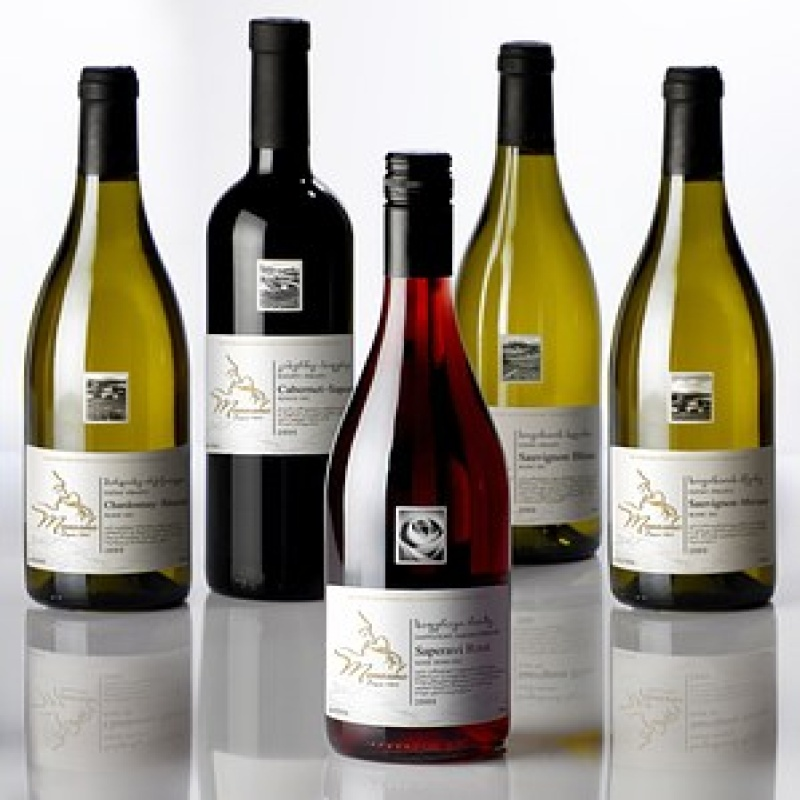wine: (334, 171, 512, 764), (17, 88, 194, 611), (605, 80, 771, 604), (212, 28, 342, 580)
